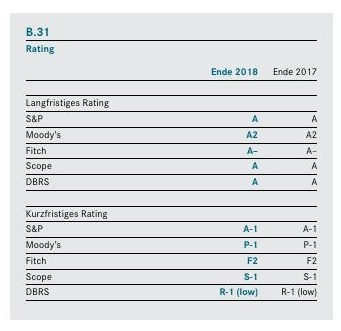table: (0, 0, 341, 331)
